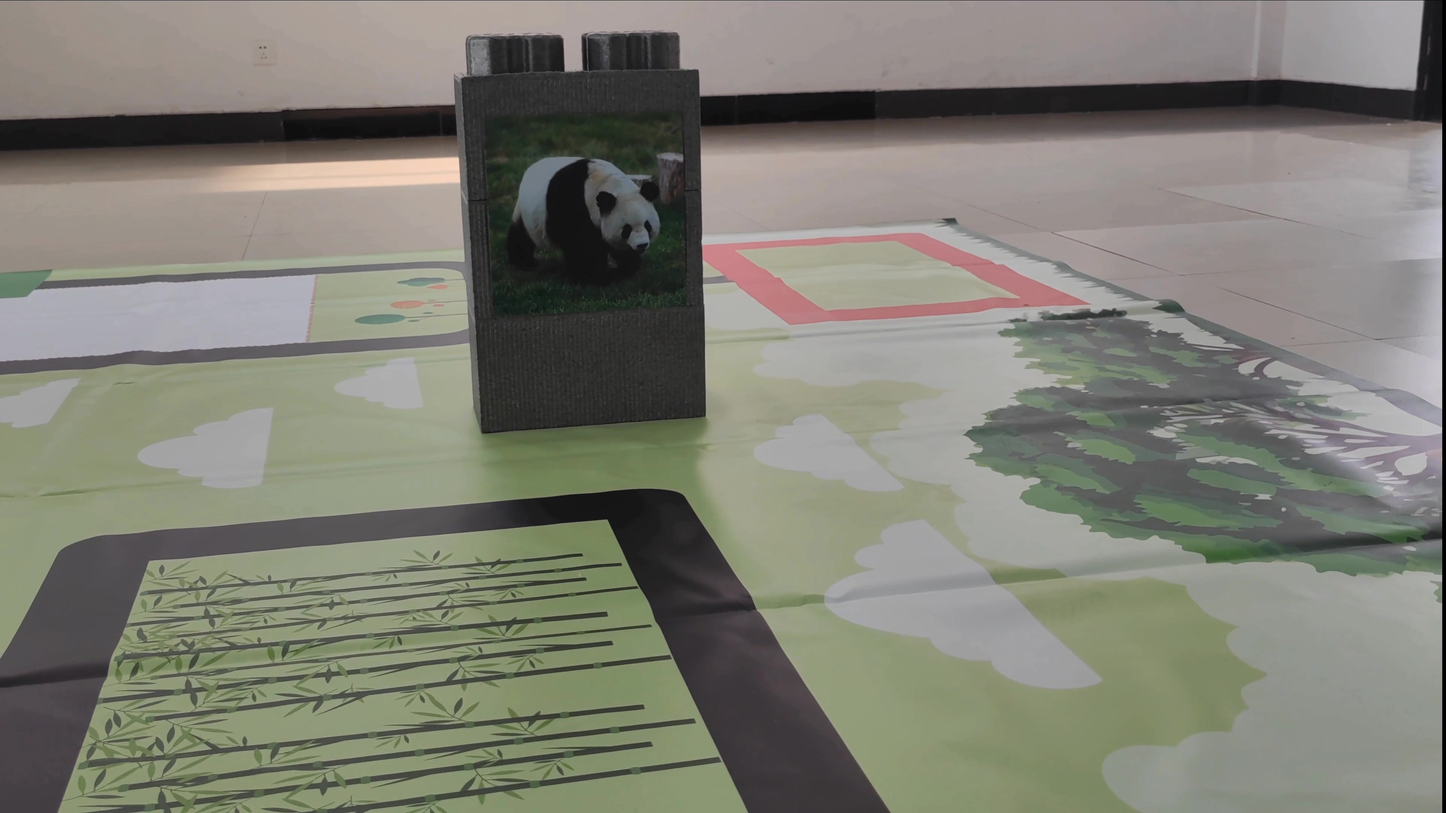panda: (503, 148, 682, 318)
